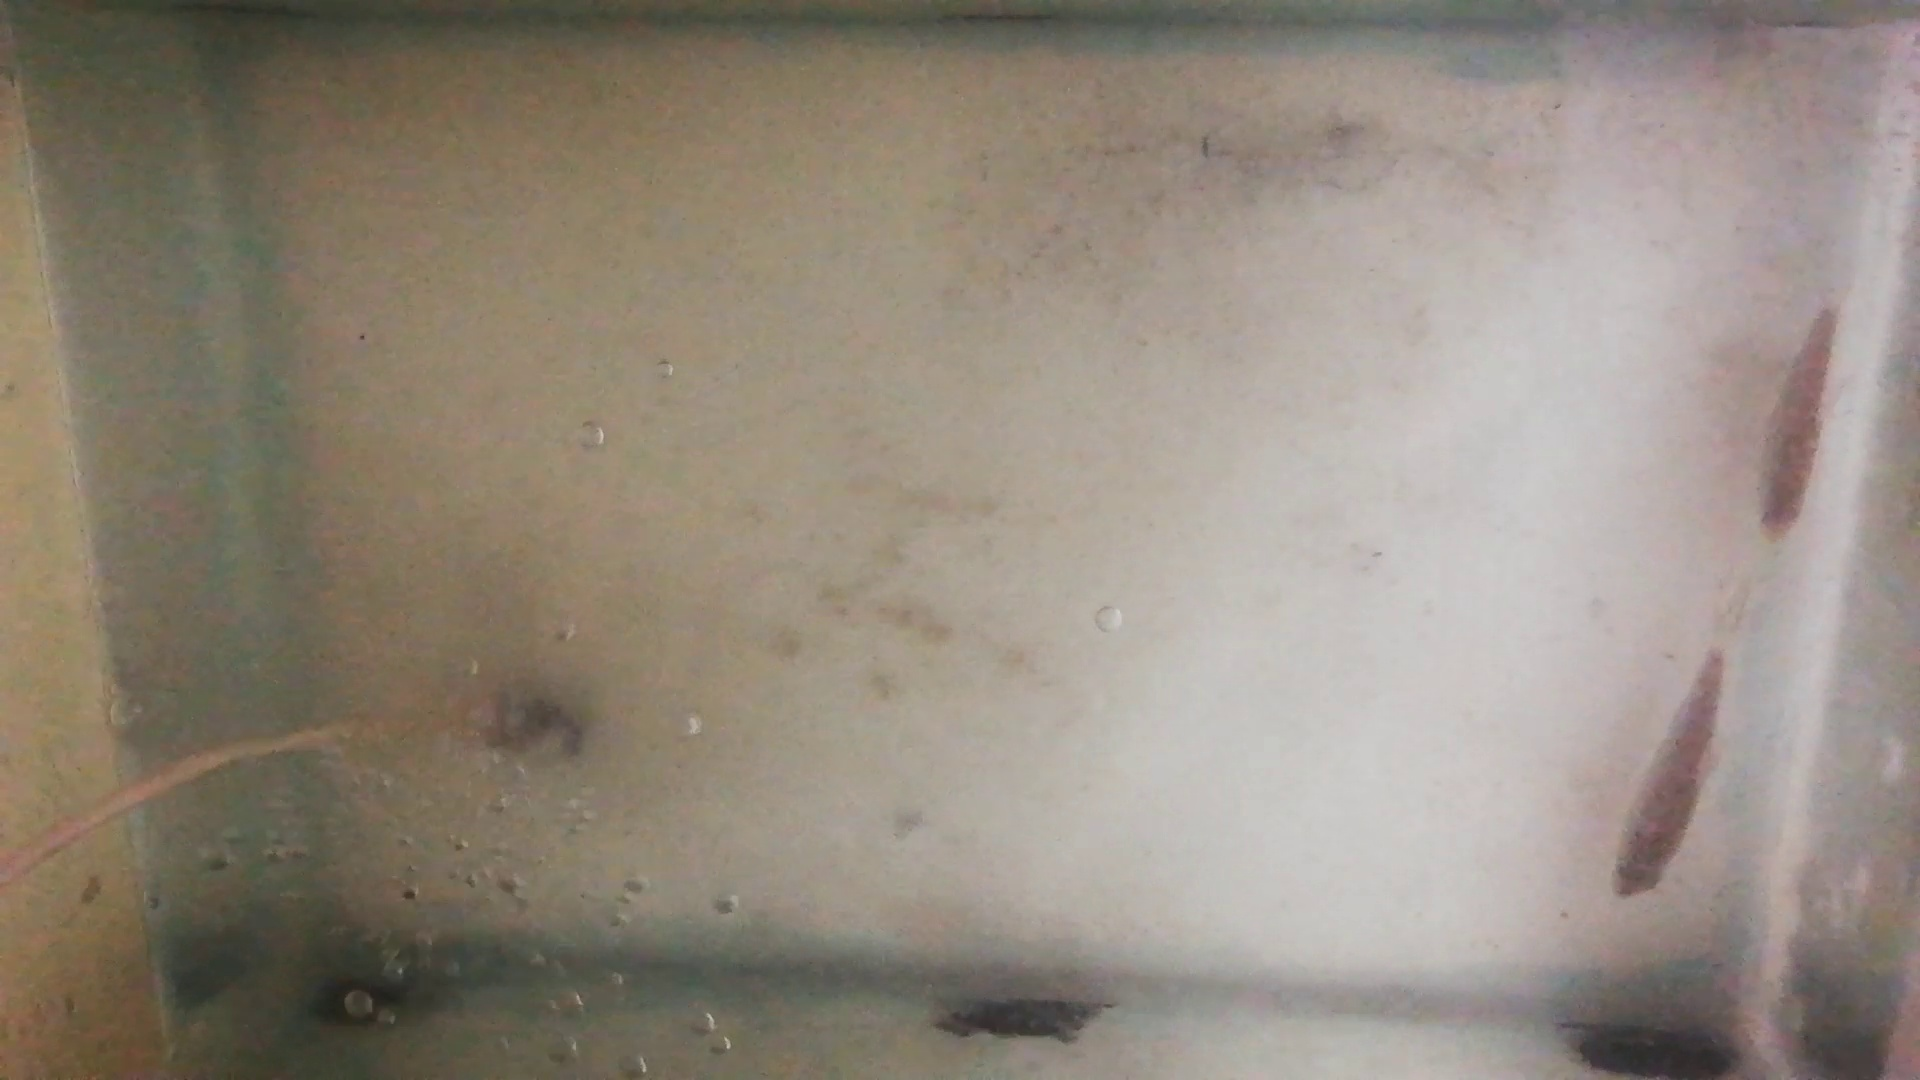fish: (1609, 653, 1727, 895), (1755, 307, 1842, 545)
